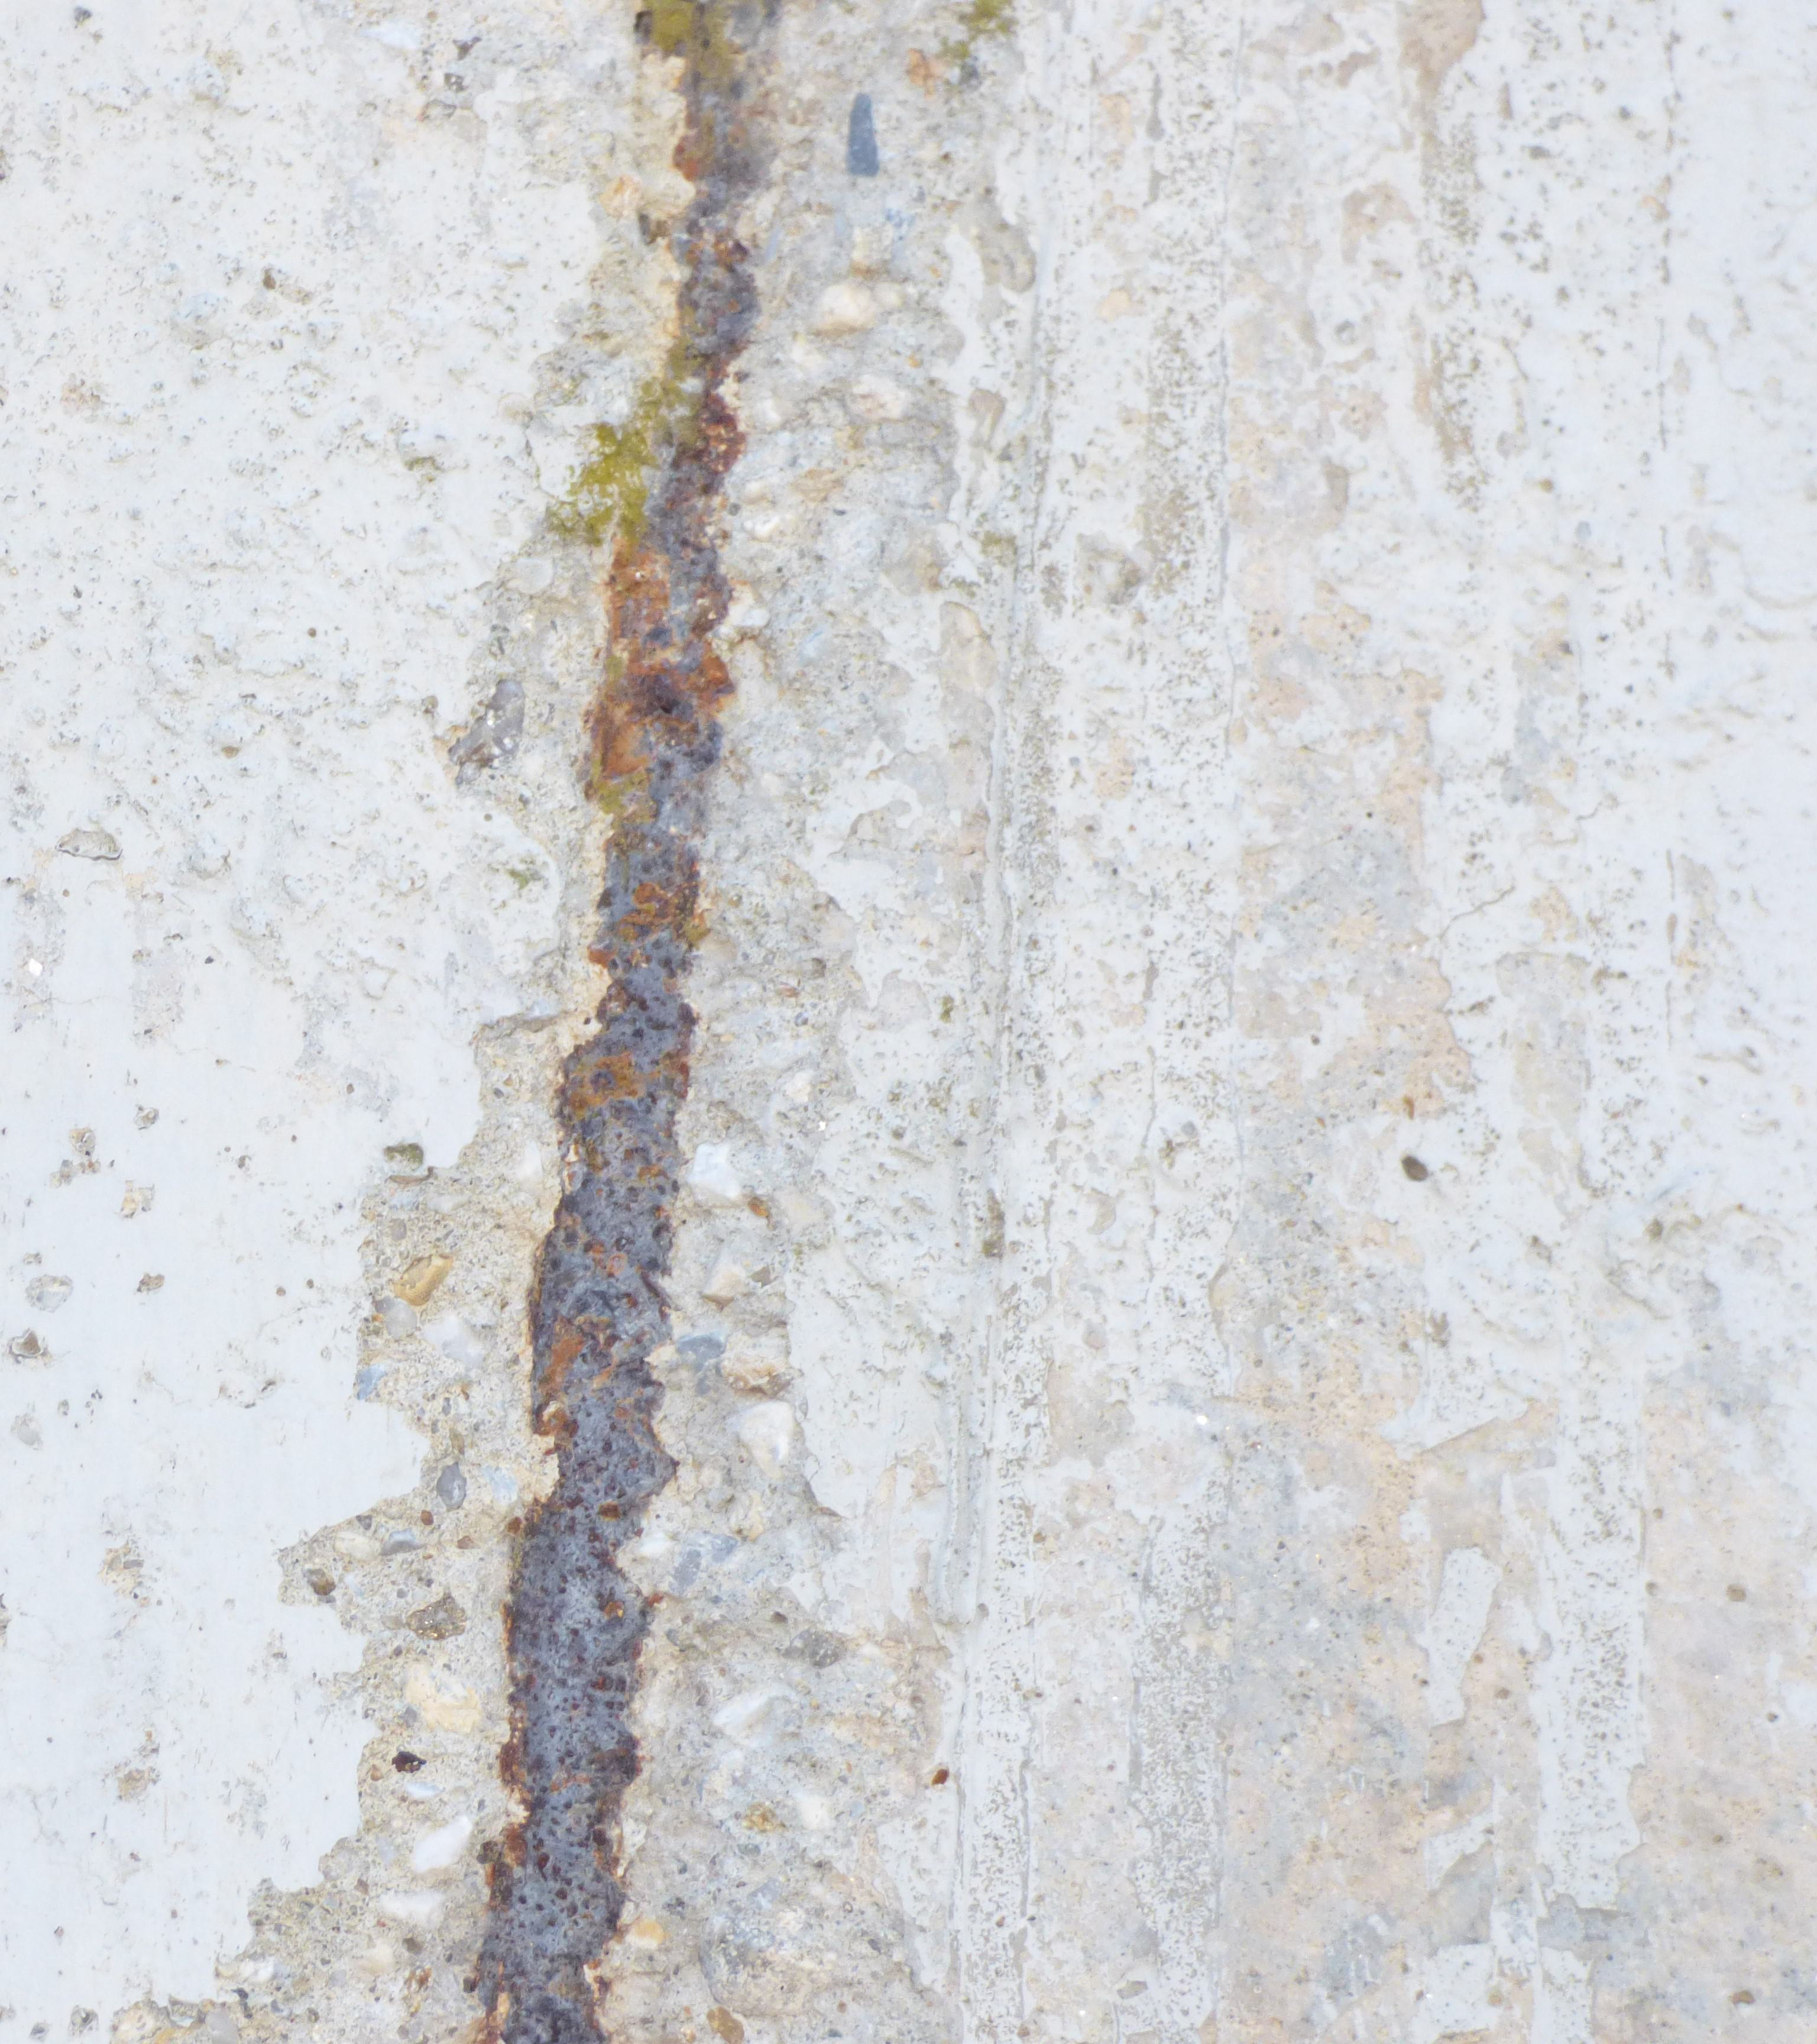Exposed reinforcement: (477, 0, 779, 2044)
Spalling: (103, 0, 961, 2044)
